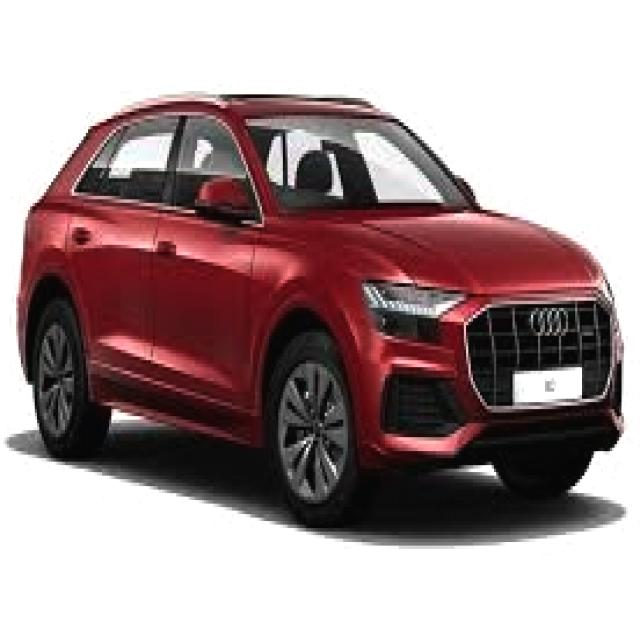red: (16, 89, 618, 522)
